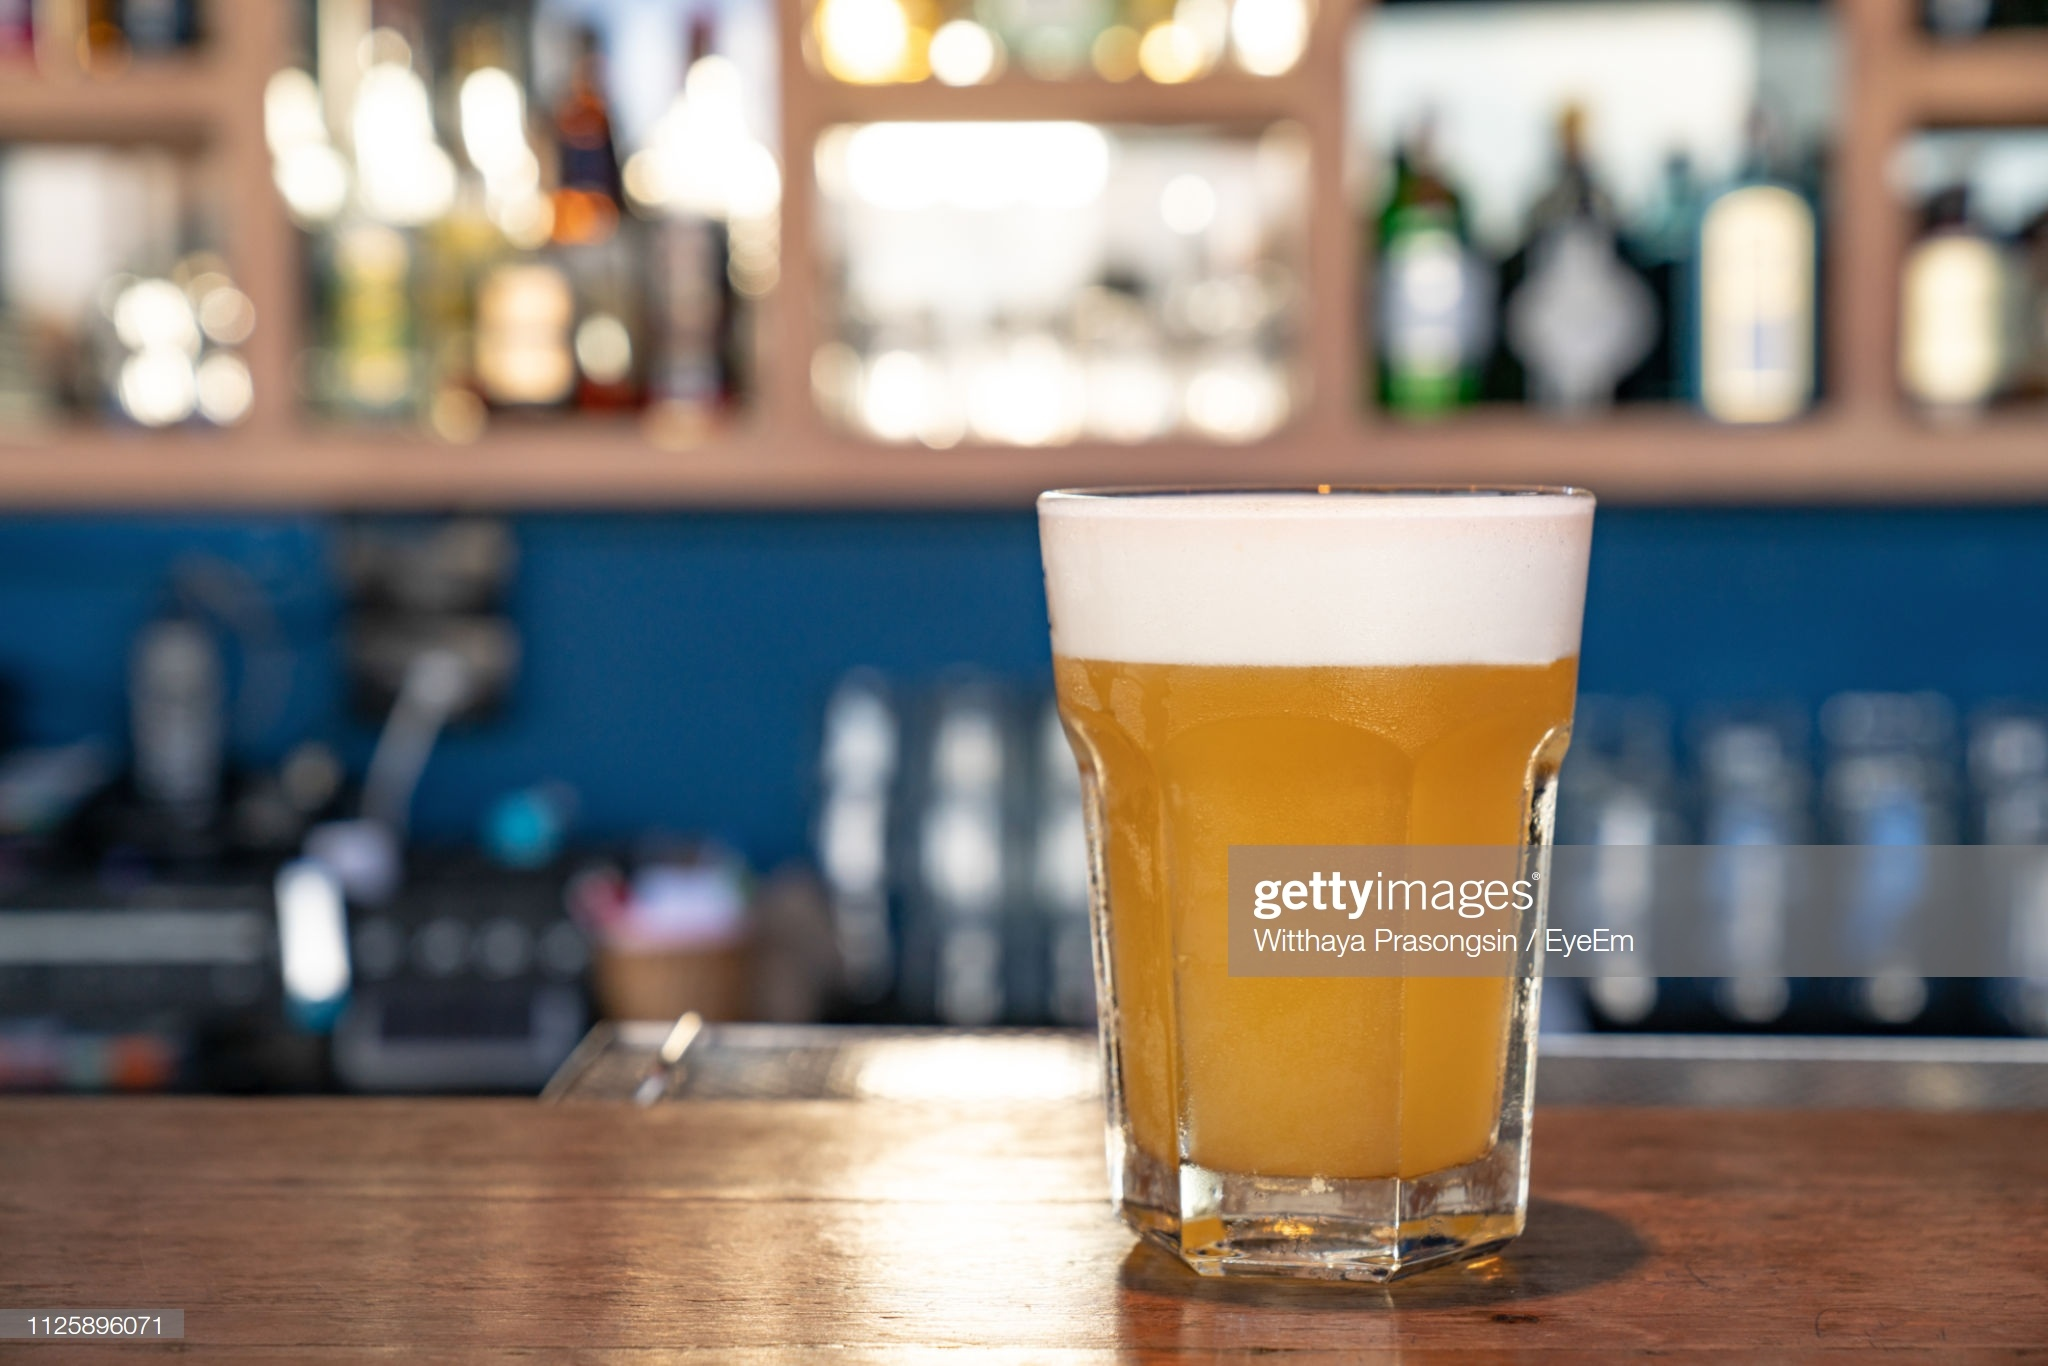glassBeer: (1053, 483, 1577, 1258)
